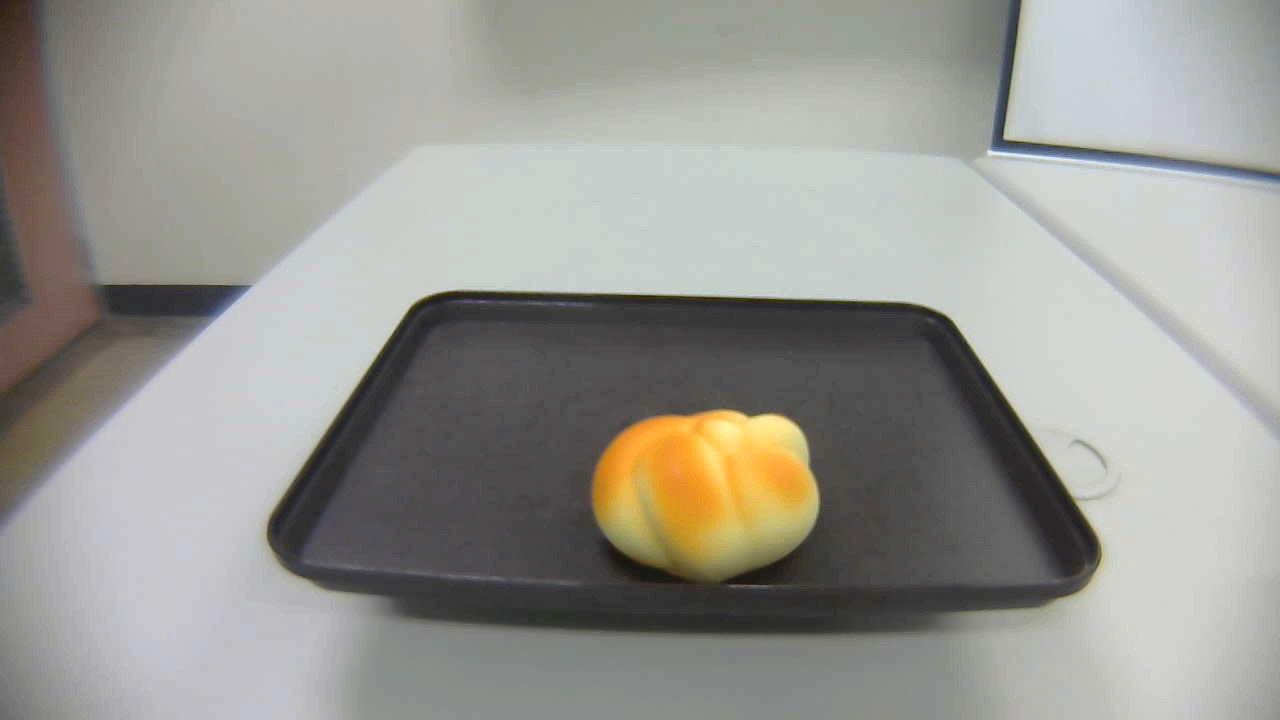twist bread: (590, 412, 819, 586)
